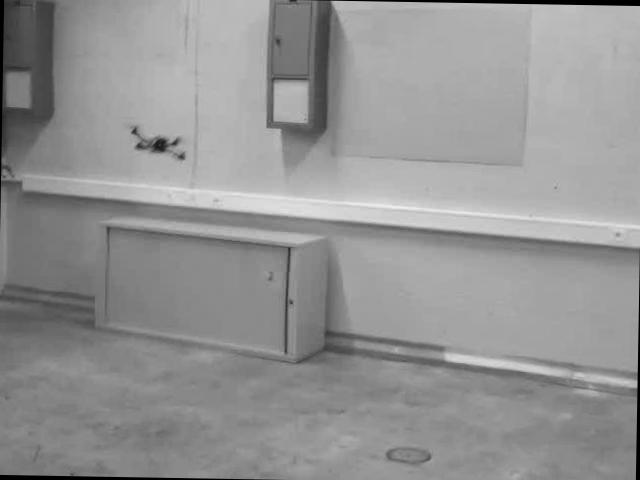drone: (122, 120, 188, 162)
